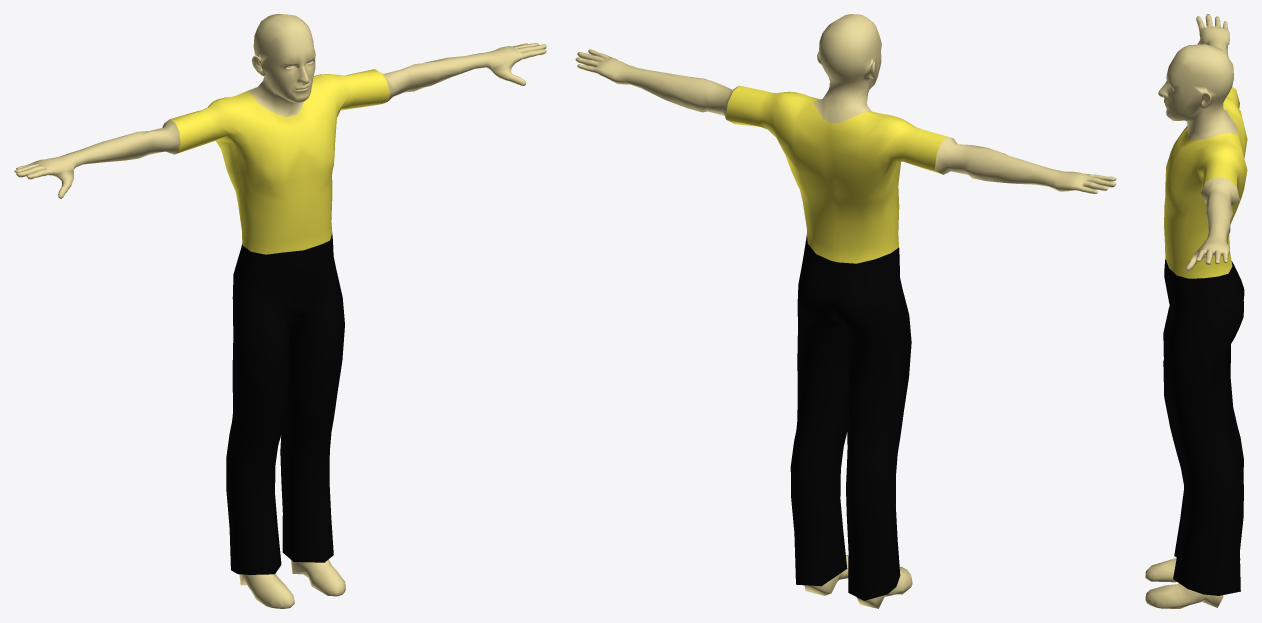
File: Police (1).fbx
The picture shows the model from 3 angles, left to right: view 1: azimuth 30°, elevation 25°; view 2: azimuth 150°, elevation 25°; view 3: azimuth 270°, elevation 25°; orthographic projection. The views are drawn at different scales.
Visible parts, largest first — view 1: H_DDS_LowRes; view 2: H_DDS_LowRes; view 3: H_DDS_LowRes.
Boxes of the visible parts, box(x1,y1,x2,y2) form: H_DDS_LowRes: box(14, 14, 546, 608); H_DDS_LowRes: box(575, 14, 1116, 608); H_DDS_LowRes: box(1145, 14, 1247, 608).
Size of the model in its own units: 176 by 180 by 30.61.
